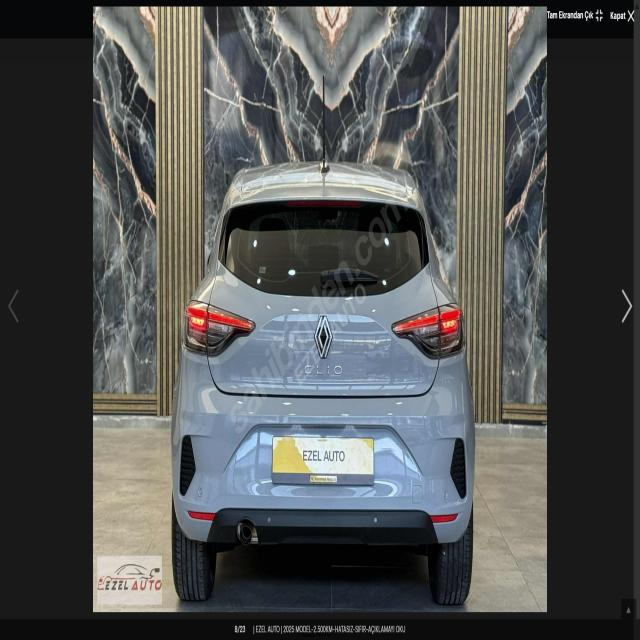renault: (306, 305, 344, 361)
